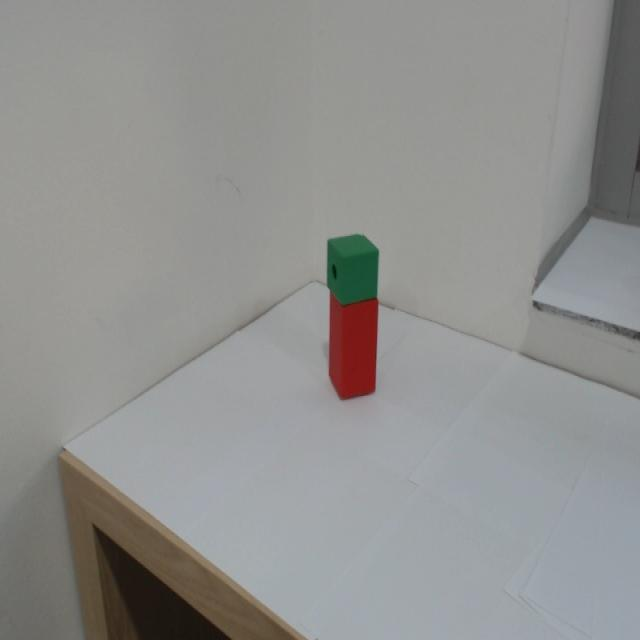cube: (319, 227, 383, 304)
